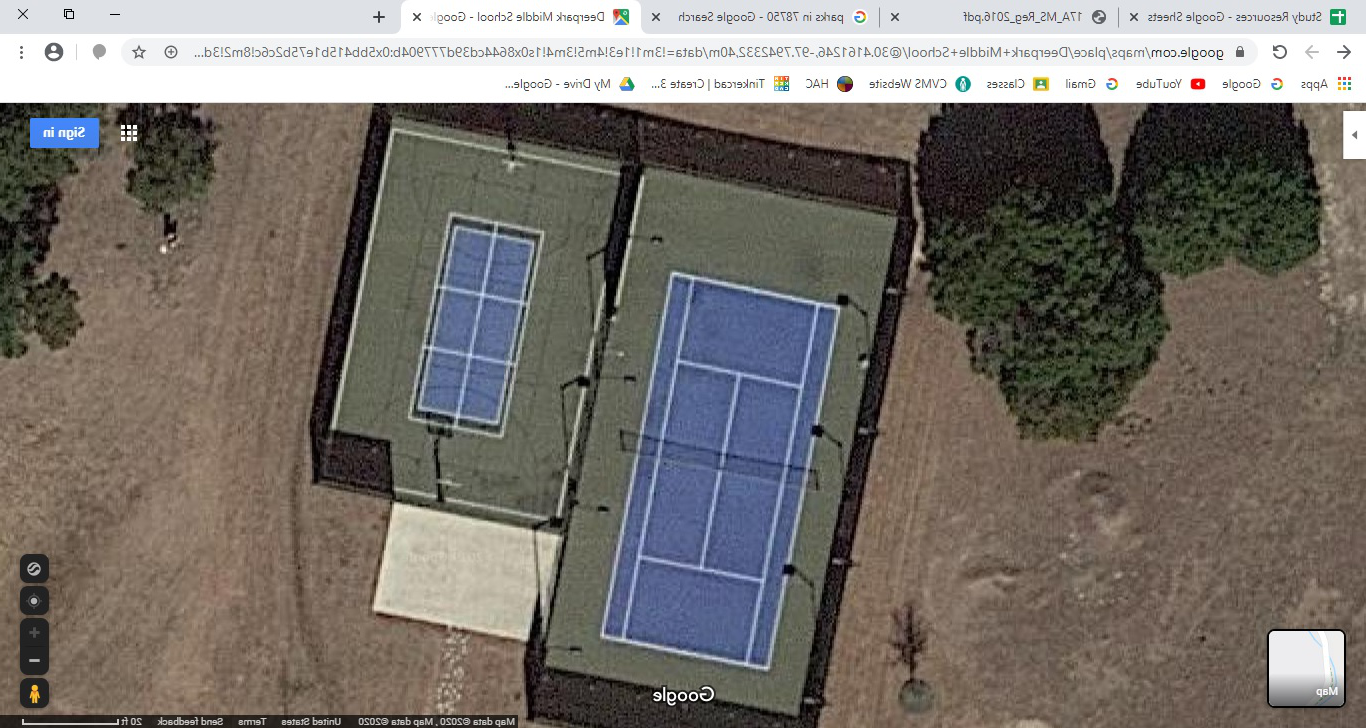tennis: (614, 228, 868, 682), (408, 182, 556, 464)
